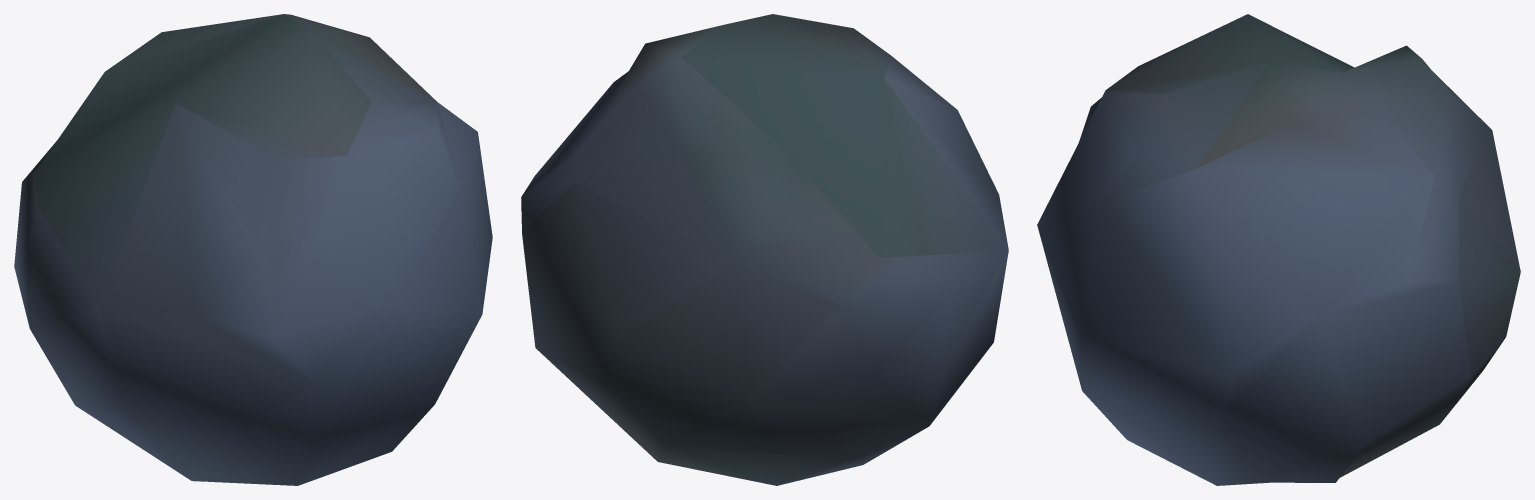
File: space-asteroids-asteroid_v8.glb
The picture shows the model from 3 angles, left to right: view 1: azimuth 30°, elevation 25°; view 2: azimuth 150°, elevation 25°; view 3: azimuth 270°, elevation 25°; orthographic projection.
Parts seen in each view (by area): view 1: Asteroid_v8; view 2: Asteroid_v8; view 3: Asteroid_v8.
Boxes of the visible parts, <box> form: Asteroid_v8: <box>14,14,492,485</box>; Asteroid_v8: <box>521,14,1008,485</box>; Asteroid_v8: <box>1037,14,1520,485</box>.
Size of the model in its own units: 500 by 481 by 493.
